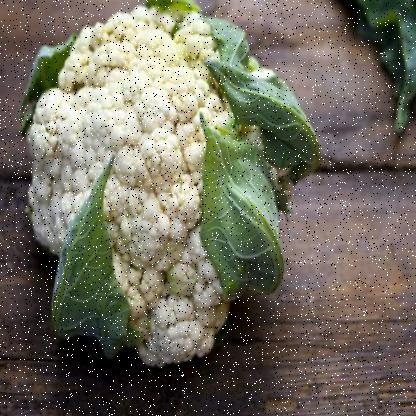cauliflower: (19, 0, 313, 366)
